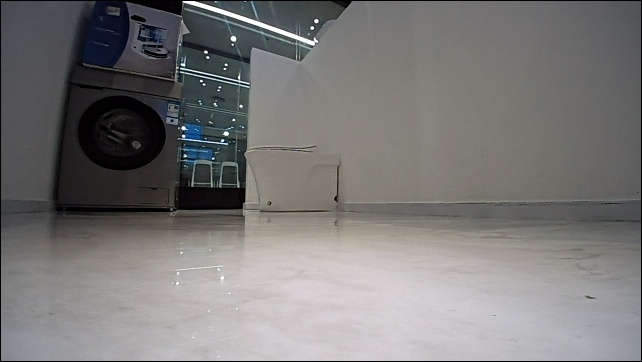refrigerator: (54, 63, 185, 210)
toilet: (245, 143, 346, 212)
